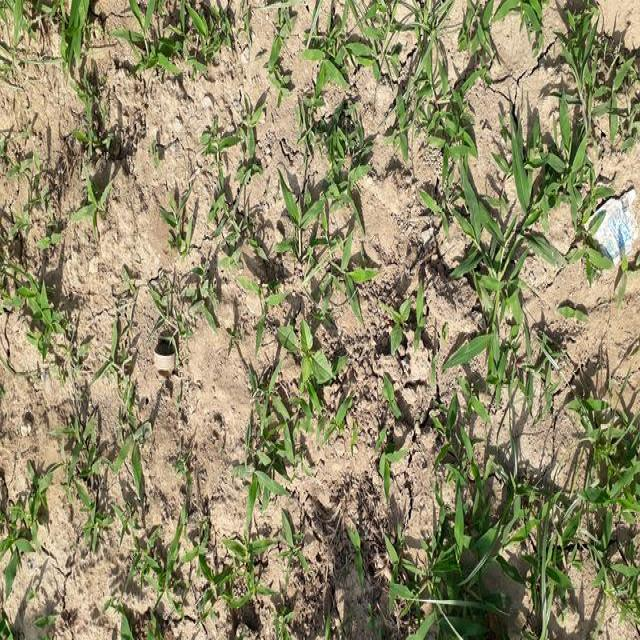weed: (109, 459, 292, 629), (318, 0, 475, 149), (422, 476, 556, 640), (574, 367, 640, 621), (42, 0, 228, 76), (551, 4, 640, 138), (438, 180, 522, 320), (279, 182, 363, 299), (166, 184, 220, 342), (282, 314, 338, 404), (0, 271, 61, 352), (4, 463, 46, 557), (106, 328, 129, 390)
